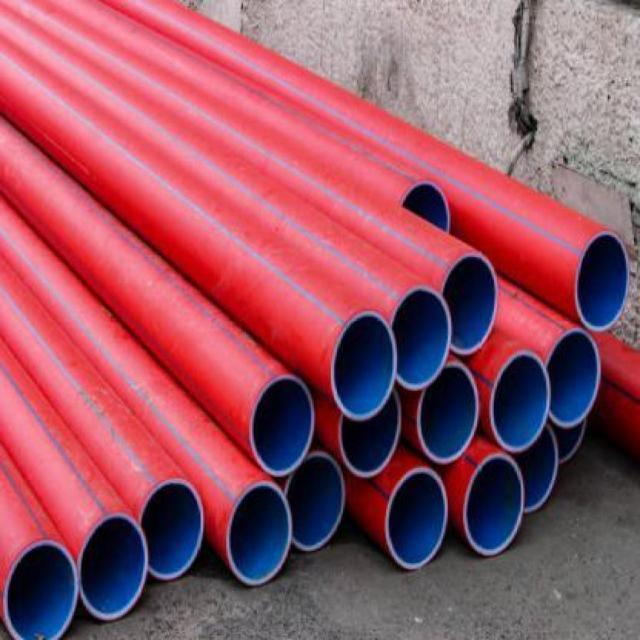pipe: (3, 540, 80, 639), (79, 514, 148, 620), (332, 309, 397, 420), (228, 482, 293, 587), (139, 479, 205, 581), (390, 286, 452, 392), (250, 376, 315, 475), (385, 468, 448, 570), (417, 363, 479, 466), (463, 453, 525, 556), (489, 351, 551, 453), (284, 451, 346, 553), (442, 252, 498, 356), (340, 389, 403, 478), (575, 232, 629, 332), (546, 329, 600, 428), (512, 428, 559, 519), (401, 178, 451, 248), (548, 405, 593, 462)
